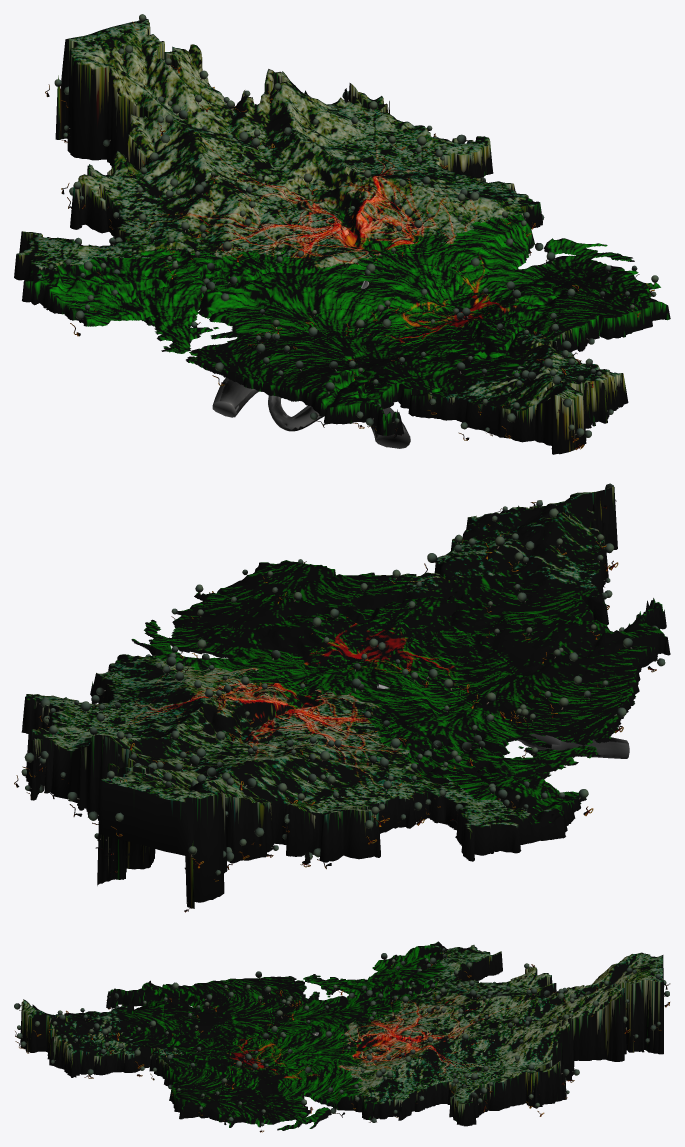
Rendered from island2.glb.
3 renders of one model, top to bottom at view 1: azimuth 30°, elevation 25°; view 2: azimuth 150°, elevation 25°; view 3: azimuth 270°, elevation 25°, orthographic. The views are drawn at different scales.
Visible parts, largest first — view 1: Plane.043, NurbsPath.011; view 2: Plane.043, NurbsPath.011; view 3: Plane.043.
Boxes of the visible parts, x1,y1,x2,y2 form: Plane.043: (14,14,670,454); NurbsPath.011: (212,280,410,448); Plane.043: (14,483,670,912); NurbsPath.011: (377,683,629,758); Plane.043: (14,941,670,1132).
Size of the model in its own units: 214 by 66.53 by 338.
4 materials, 4 textured.
